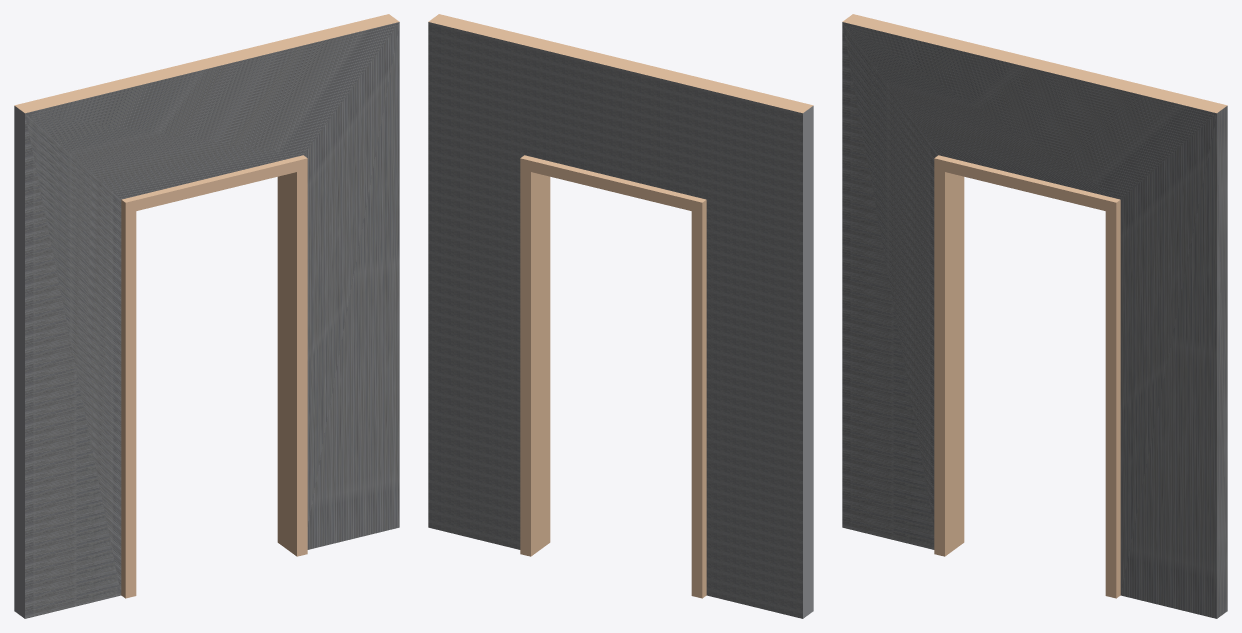
Rendered from wallDoorway2.glb.
3 renders of one model, left to right at view 1: azimuth 30°, elevation 25°; view 2: azimuth 150°, elevation 25°; view 3: azimuth 330°, elevation 25°, orthographic.
Parts seen in each view (by area): view 1: wallDoorway(Clone); view 2: wallDoorway(Clone); view 3: wallDoorway(Clone).
Part boxes in pixels (x1,y1,x2,y2): wallDoorway(Clone): (14,14,399,618); wallDoorway(Clone): (428,14,813,618); wallDoorway(Clone): (842,14,1227,618).
Bounding box in the file's own units: 1 × 1.29 × 0.0891.
3 materials, 2 textured.
